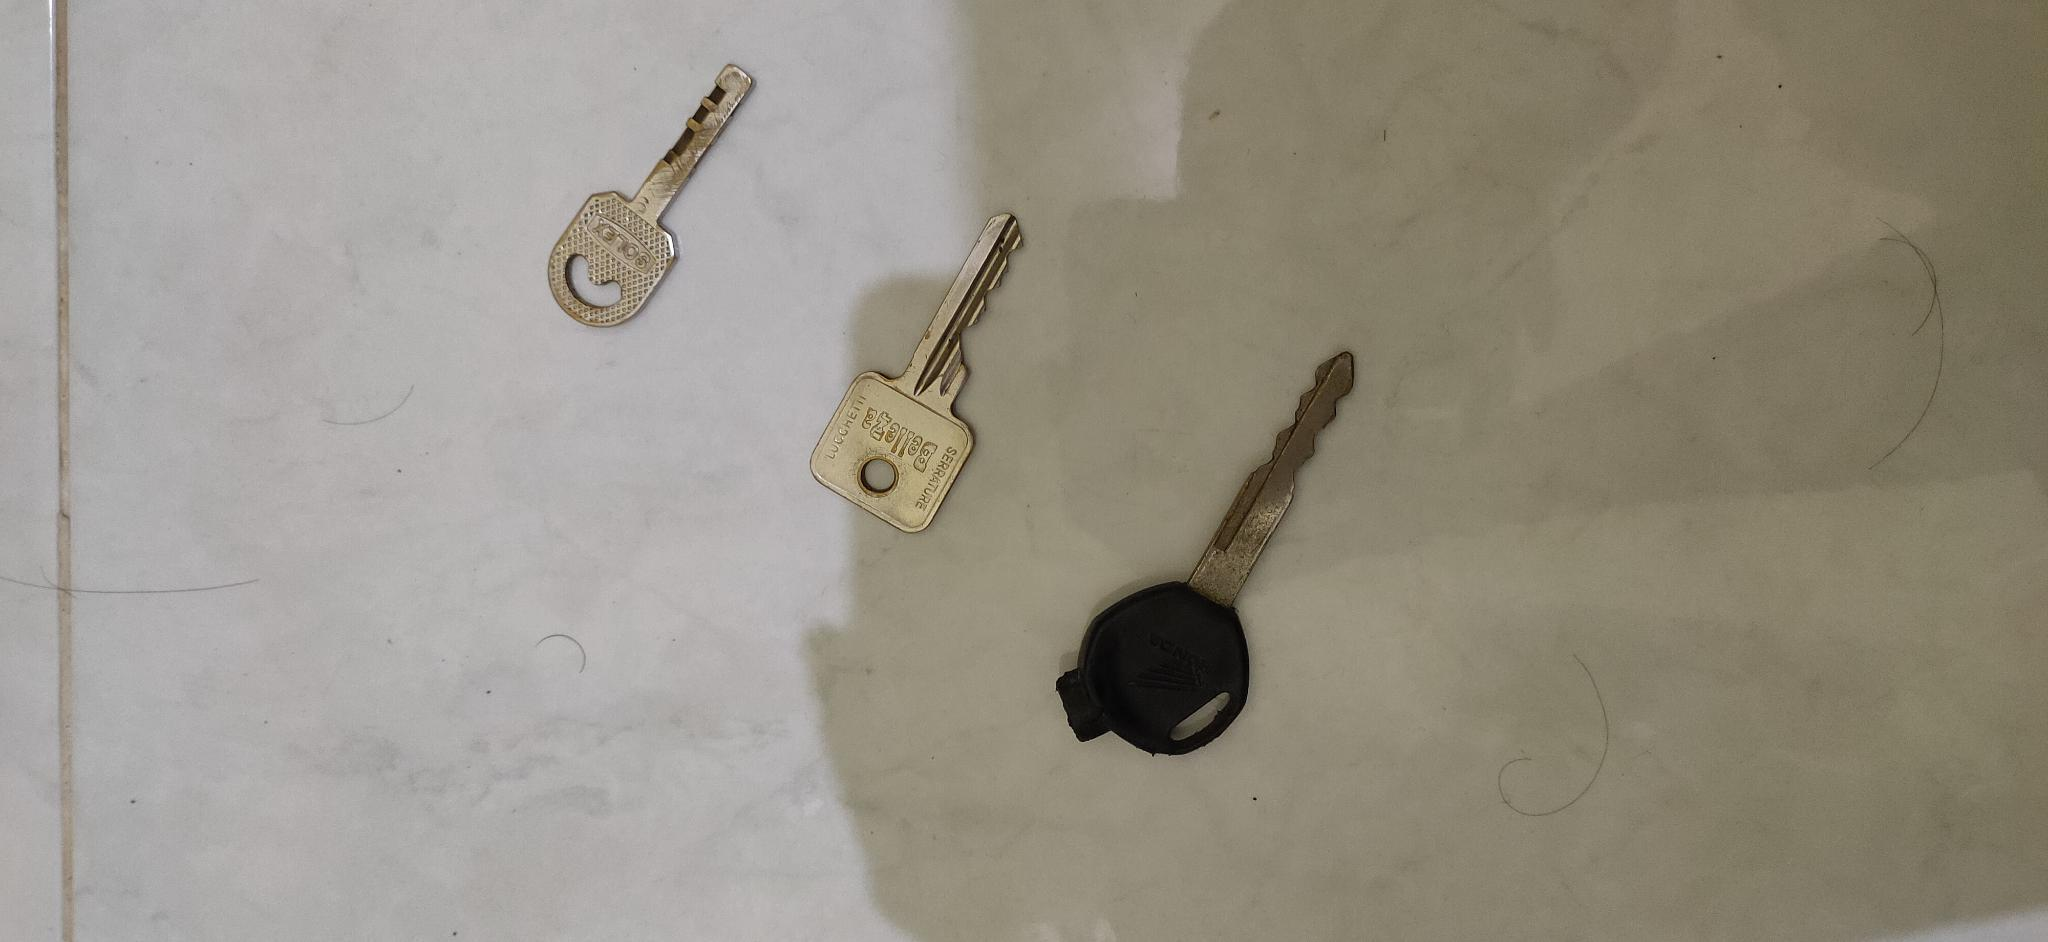keys: (1045, 344, 1364, 767), (801, 209, 1031, 541), (537, 57, 760, 331)
